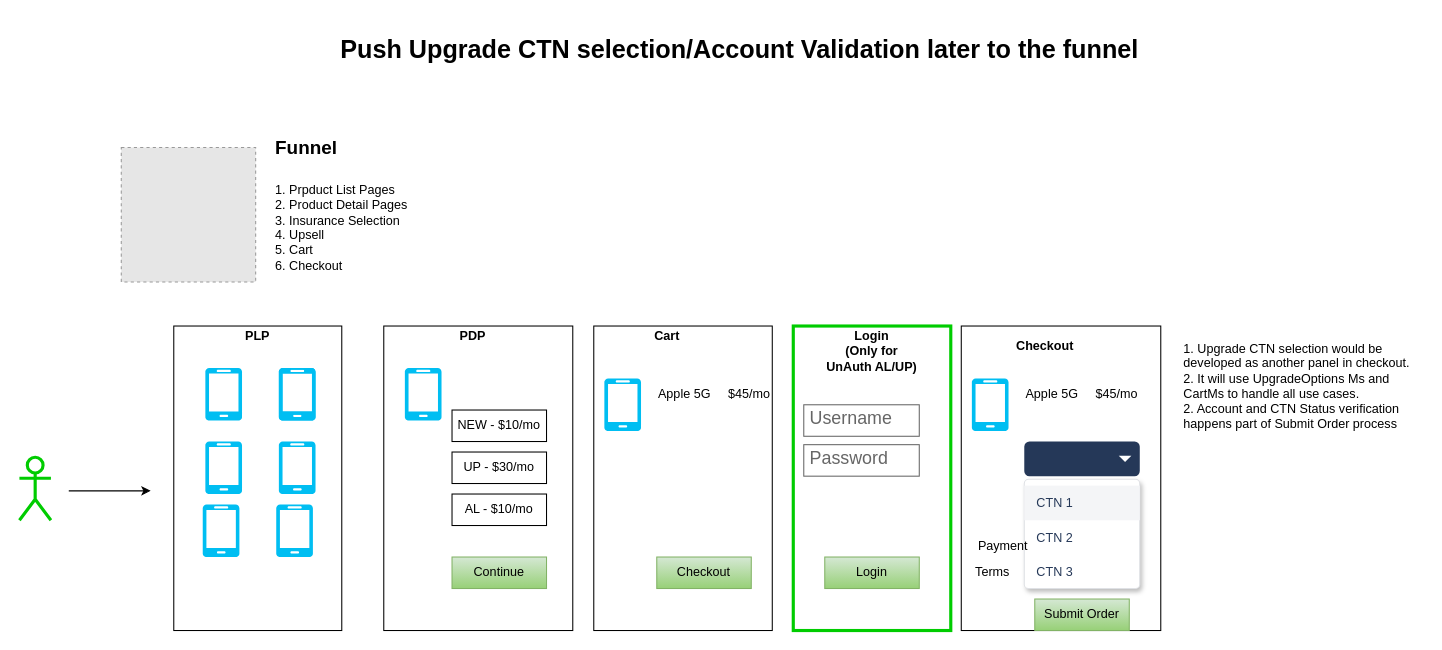
Image size: 1442x650. Some labels were removed from this diagram. Grey dashed boxes stand in for pictures. Each missing label, with the centre of its shape:
"Actor" belongs at point 34,488.
"Upgrade CTN" belongs at point 1081,458.
